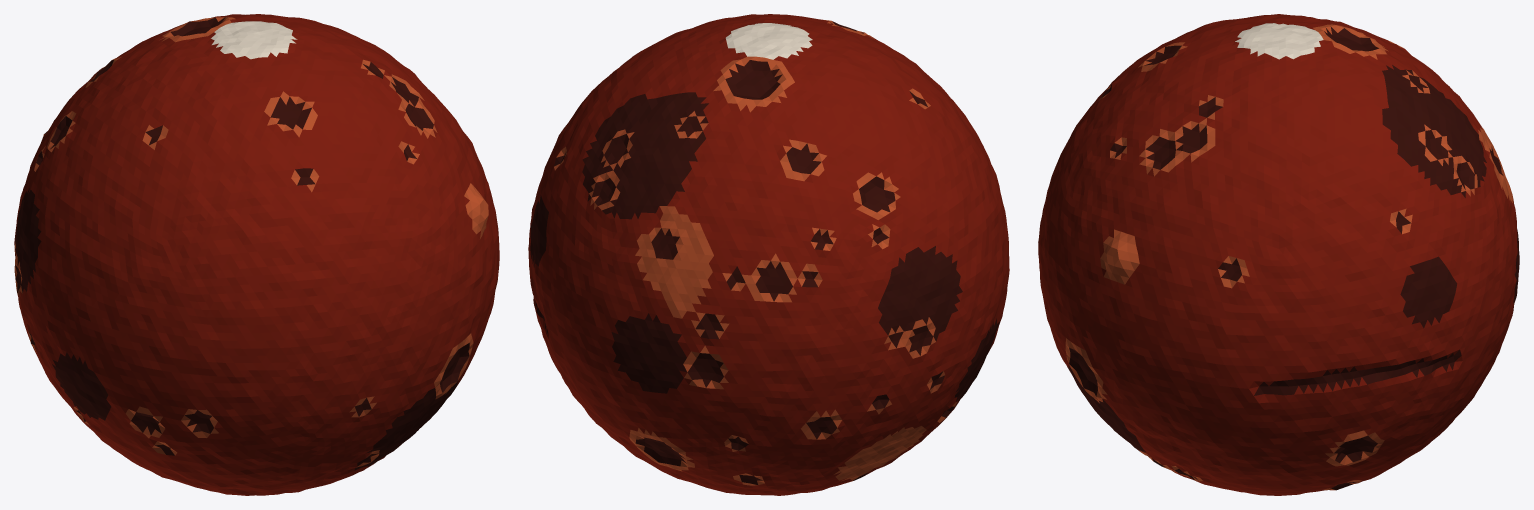
The model's file is CELESTIAL_03_Mars.obj.
3 views of the same model, side by side, from view 1: azimuth 30°, elevation 25°; view 2: azimuth 150°, elevation 25°; view 3: azimuth 270°, elevation 25° (orthographic).
Visible parts, largest first — view 1: CELESTIAL_03_Mars_Mars; view 2: CELESTIAL_03_Mars_Mars; view 3: CELESTIAL_03_Mars_Mars.
Part boxes in pixels (left/top/right/bottom): CELESTIAL_03_Mars_Mars: left=14, top=14, right=499, bottom=495; CELESTIAL_03_Mars_Mars: left=528, top=14, right=1009, bottom=495; CELESTIAL_03_Mars_Mars: left=1038, top=14, right=1519, bottom=495.
Bounding box in the file's own units: 2.02 × 2.01 × 2.01.
